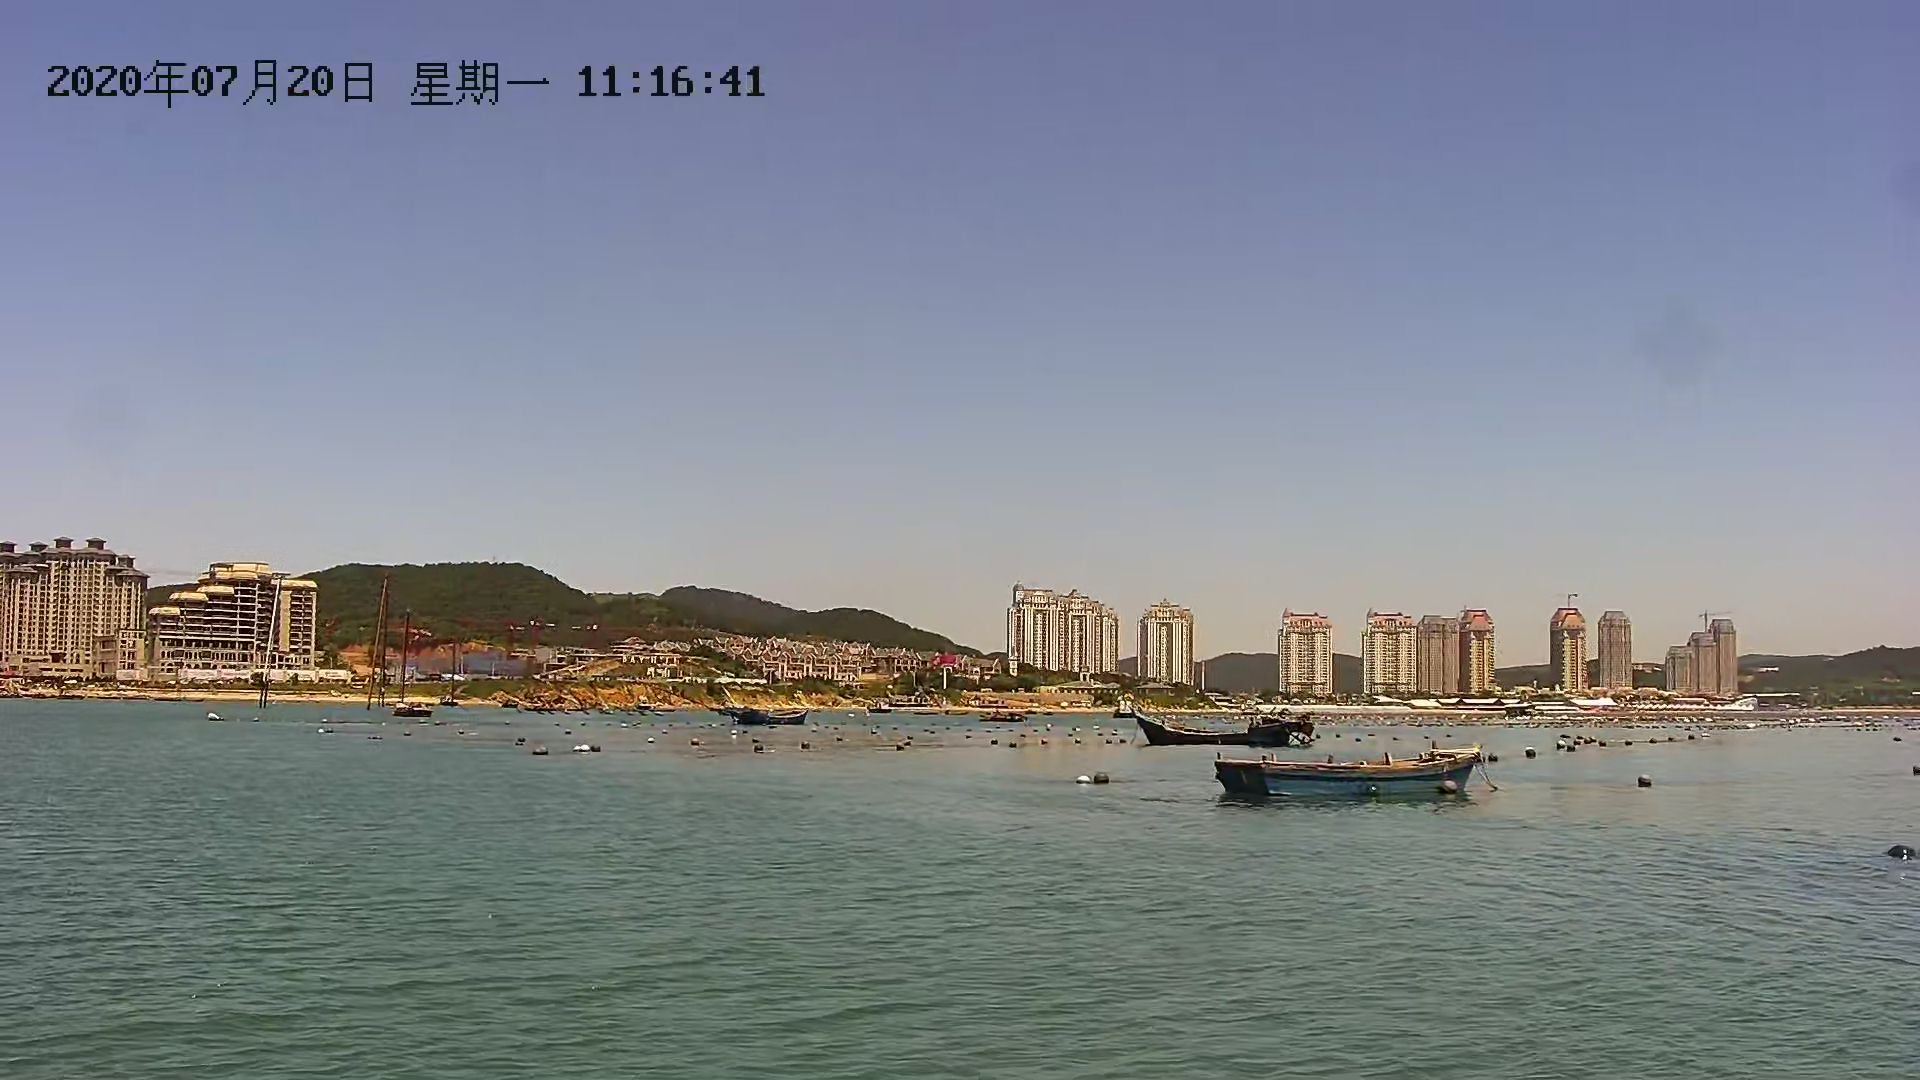ball: (1882, 845, 1920, 865), (1073, 771, 1112, 786)
boat: (1203, 745, 1493, 802), (1125, 708, 1323, 746)
